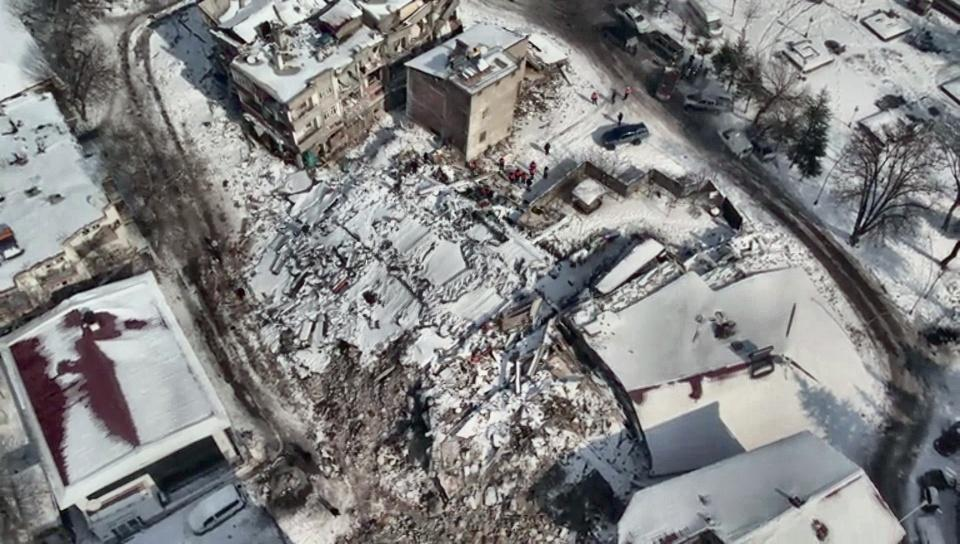kapali: (136, 181, 503, 543)
